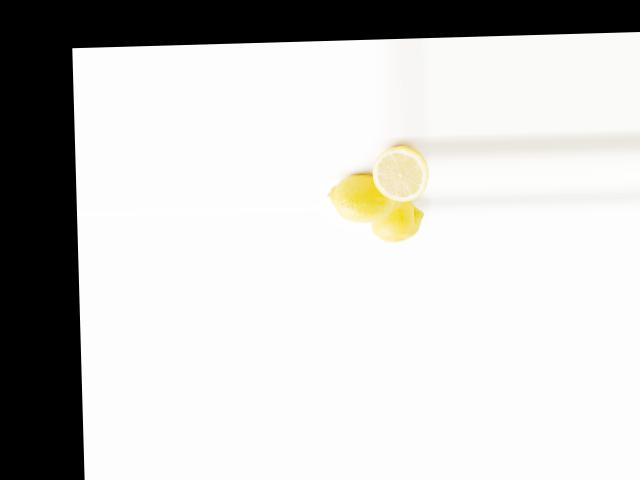lemon: (366, 198, 428, 245)
